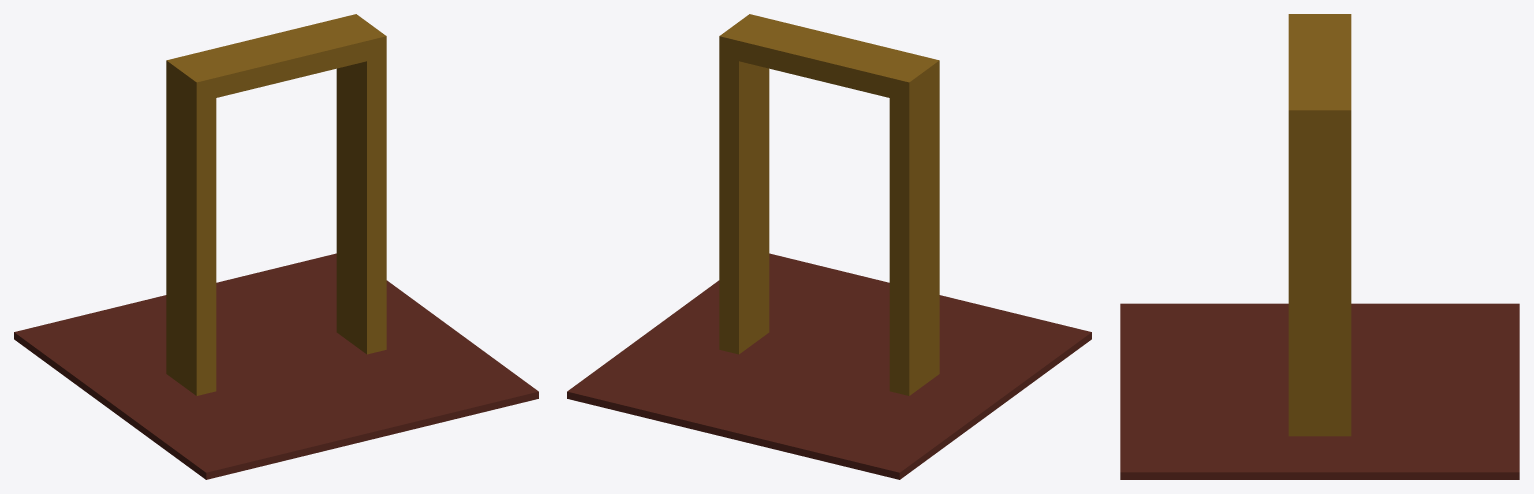
Rendered from Check.fbx.
3 renders of one model, left to right at view 1: azimuth 30°, elevation 25°; view 2: azimuth 150°, elevation 25°; view 3: azimuth 270°, elevation 25°, orthographic. The views are drawn at different scales.
Parts seen in each view (by area): view 1: BaseCheck, Marco; view 2: BaseCheck, Marco; view 3: BaseCheck, Marco.
Part boxes in pixels (<box>): BaseCheck: <box>14,253,538,479</box>; Marco: <box>166,14,386,395</box>; BaseCheck: <box>567,253,1091,479</box>; Marco: <box>719,14,939,395</box>; BaseCheck: <box>1120,303,1519,479</box>; Marco: <box>1288,14,1351,436</box>.
Bounding box in the file's own units: 540 × 497 × 540.
